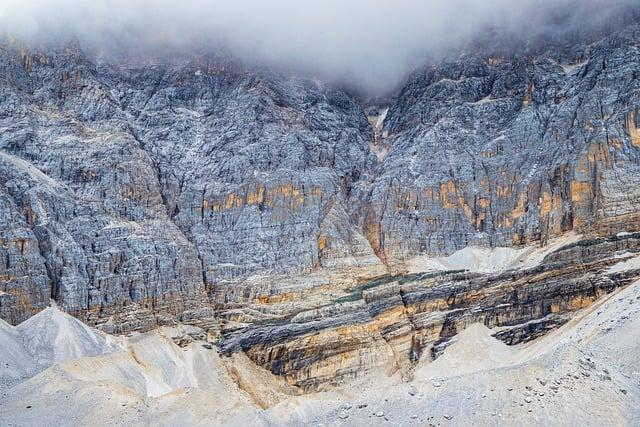Non_Gorille: (97, 103, 537, 383)
